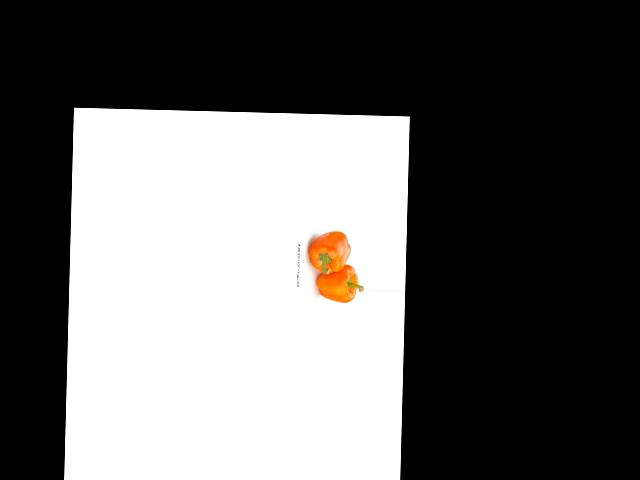bell_pepper: (304, 229, 352, 276)
